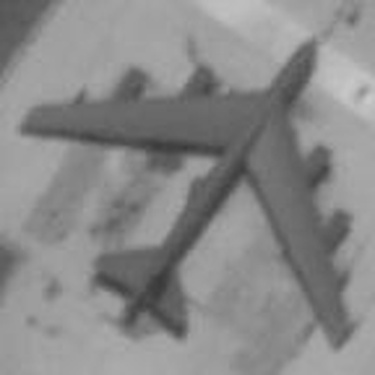airplane: (12, 29, 365, 360)
